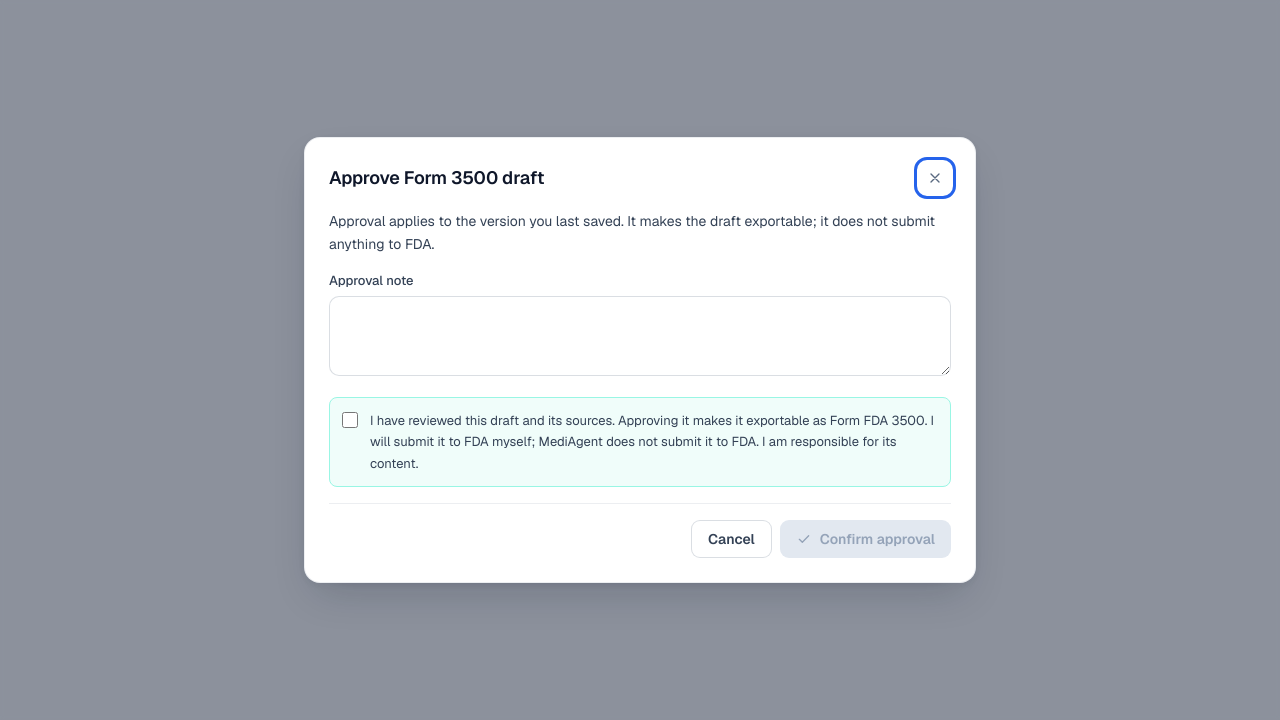
Test: MedWatchApprovalDialog › shows a rejected approval inline without server text and stays open
Step 1. Type "Evidence and form reviewed." into the text box labelled "Approval note" → [640, 336], box [329,296,951,376]
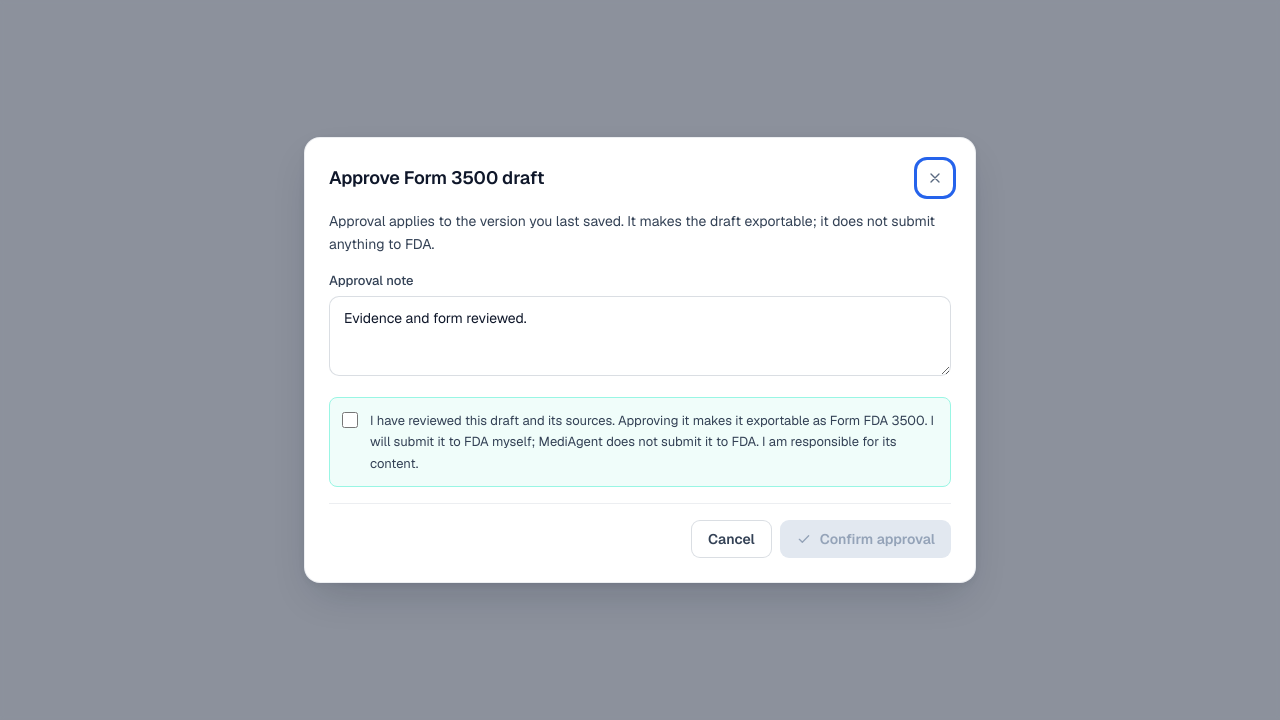
Step 2. Click the checkbox → [350, 420], box [342,412,358,428]
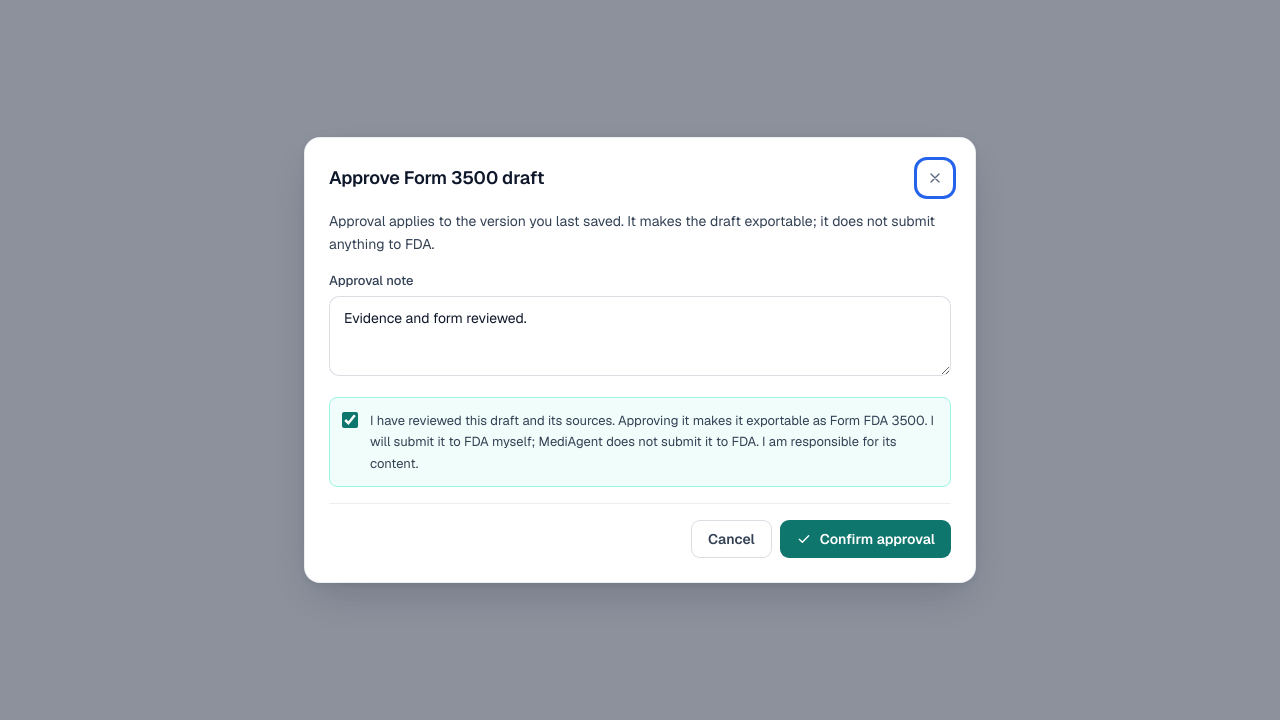
Step 3. Click the button "Confirm approval" → [865, 539], box [780,520,951,558]
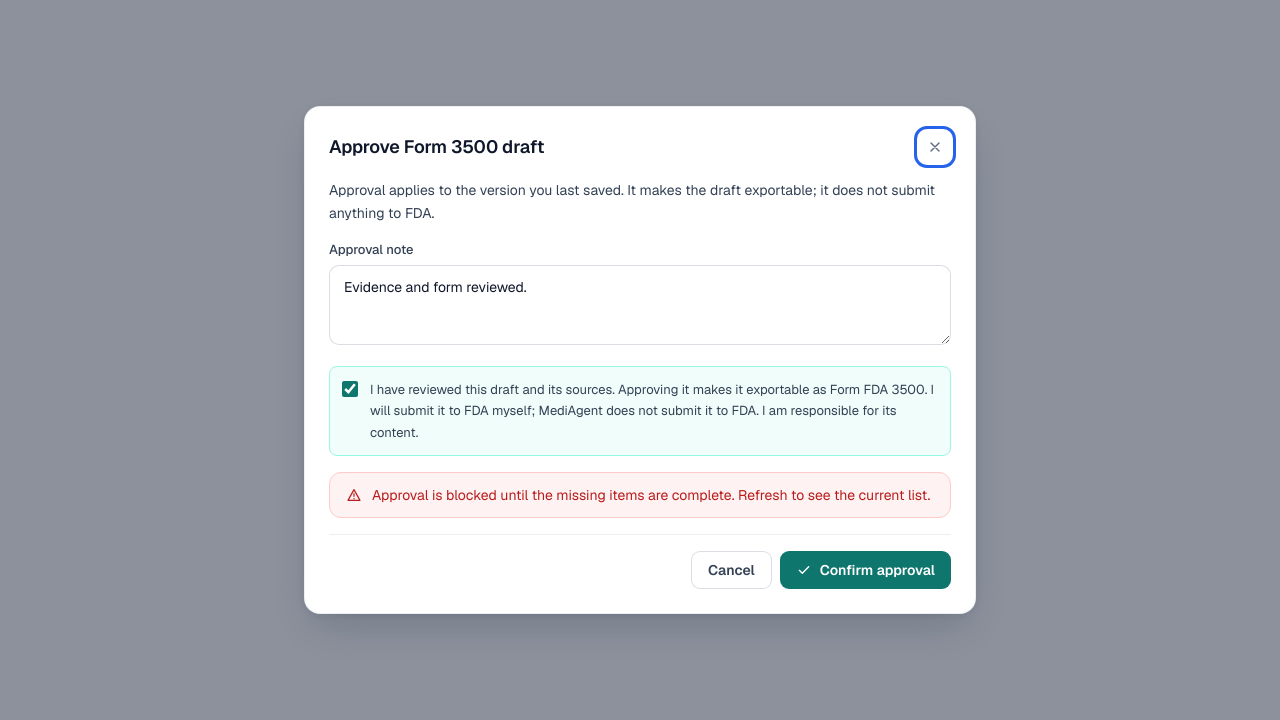
Check: the message shows "Approval is blocked until the missing items are complete", box [372,486,930,504]
